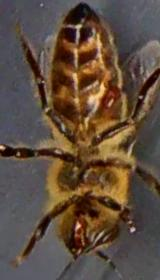varroa_mite: (97, 72, 123, 118)
